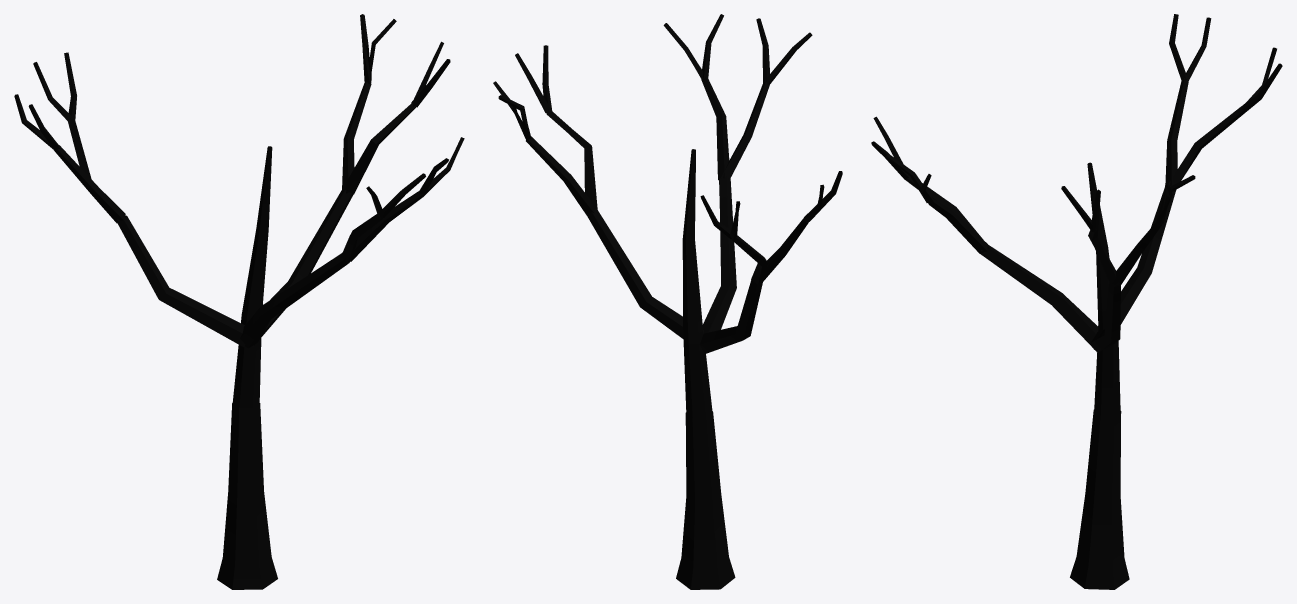
Rendered from SM_oak_dead.fbx.
3 renders of one model, left to right at view 1: azimuth 30°, elevation 25°; view 2: azimuth 150°, elevation 25°; view 3: azimuth 270°, elevation 25°, orthographic. The views are drawn at different scales.
Visible parts, largest first — view 1: oak_dead_crown, oak_dead; view 2: oak_dead_crown, oak_dead; view 3: oak_dead_crown, oak_dead.
Boxes of the visible parts, x1=… form: oak_dead_crown: x1=14, y1=14, x2=464, y2=407; oak_dead: x1=217, y1=403, x2=277, y2=589; oak_dead_crown: x1=493, y1=14, x2=842, y2=417; oak_dead: x1=676, y1=411, x2=735, y2=589; oak_dead_crown: x1=871, y1=14, x2=1282, y2=415; oak_dead: x1=1070, y1=409, x2=1129, y2=589.
Bounding box in the file's own units: 5.56 × 6.96 × 5.38.
